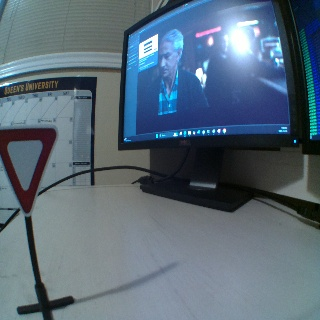sign_yield: (0, 126, 59, 214)
